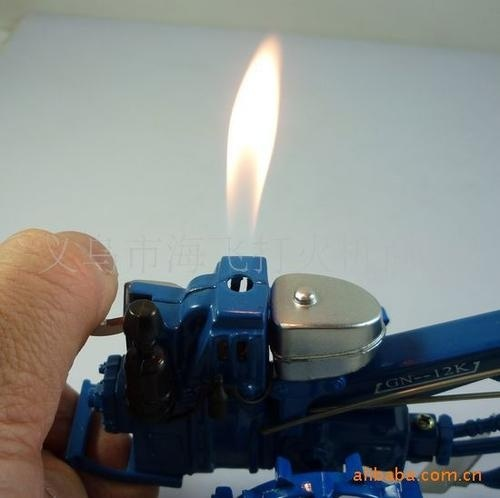fire: (226, 32, 284, 233)
